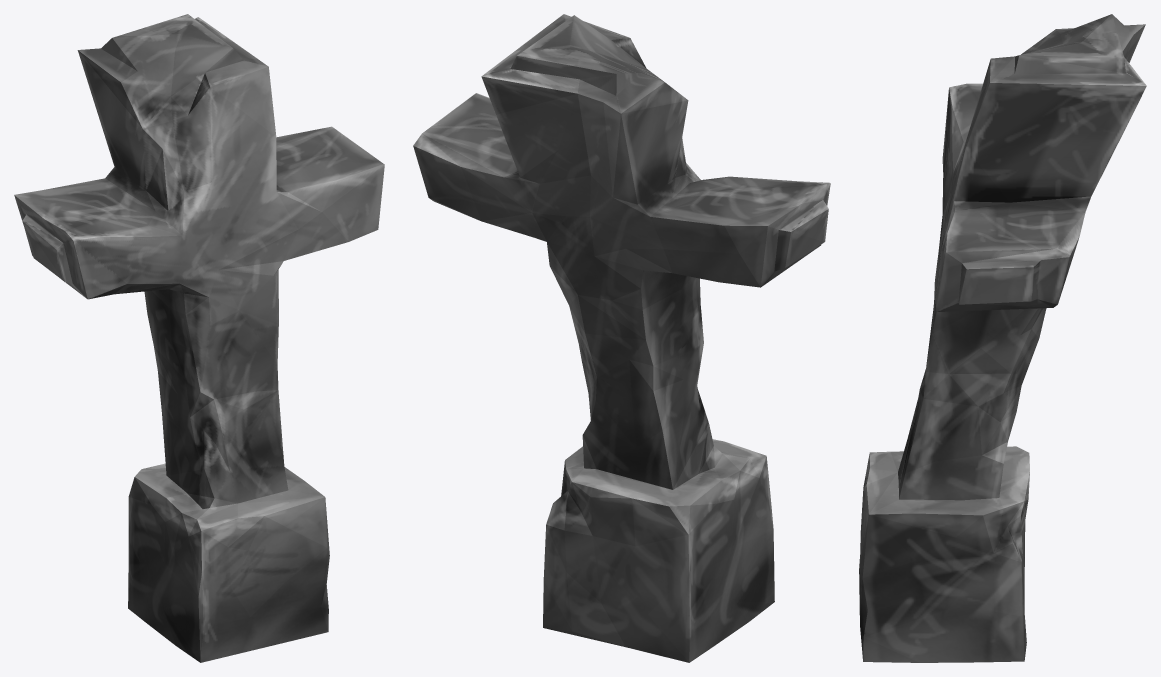
File: gravestone06_b.fbx
3 views of the same model, side by side, from view 1: azimuth 30°, elevation 25°; view 2: azimuth 150°, elevation 25°; view 3: azimuth 270°, elevation 25° (orthographic). The views are drawn at different scales.
Parts seen in each view (by area): view 1: Gravestone06_lp_b; view 2: Gravestone06_lp_b; view 3: Gravestone06_lp_b.
Part boxes in pixels (<box>): Gravestone06_lp_b: <box>14,14,384,662</box>; Gravestone06_lp_b: <box>413,14,830,662</box>; Gravestone06_lp_b: <box>859,14,1146,662</box>.
Size of the model in its own units: 0.8004 by 0.5548 by 1.26.
